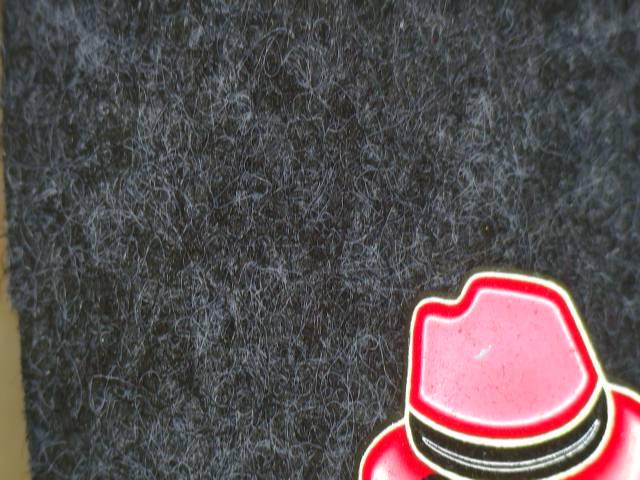Red-Hat: (309, 252, 640, 480)
